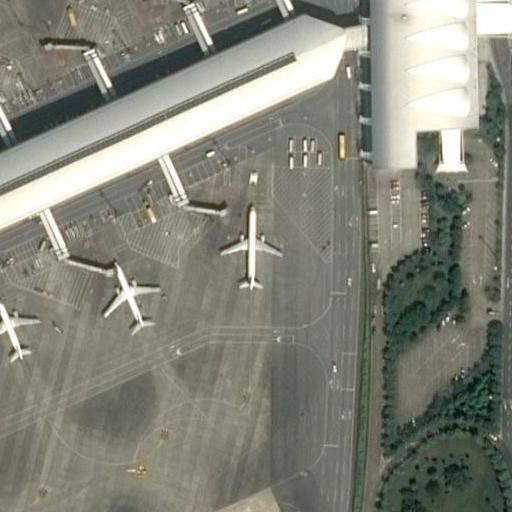Aircraft: (219, 203, 281, 290), (101, 260, 159, 336), (0, 297, 41, 362)
